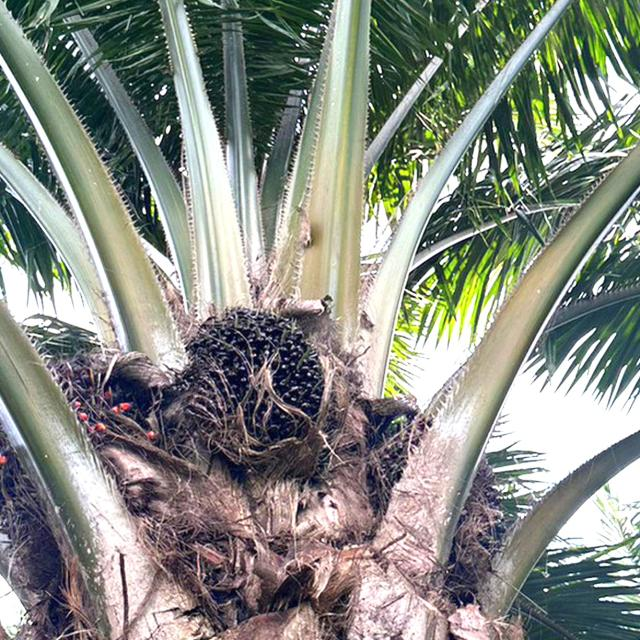unripe: (183, 298, 344, 460)
